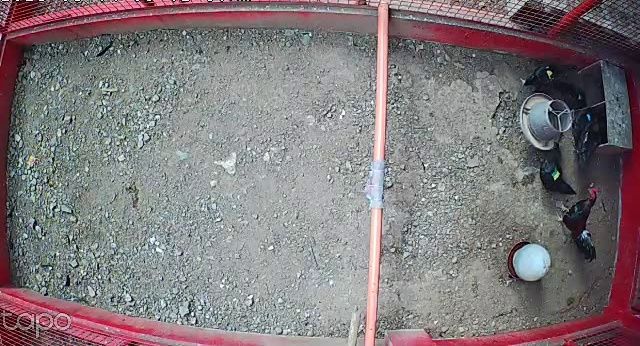Chicken: (519, 57, 581, 90), (533, 150, 577, 195), (575, 116, 606, 166)
Rooster: (555, 184, 600, 261)
Saddle_Color_Blue: (587, 113, 592, 121)
Saddle_Color_Yellow: (546, 66, 554, 79)
Saddle_Color_YellowGreen: (551, 167, 561, 180)
